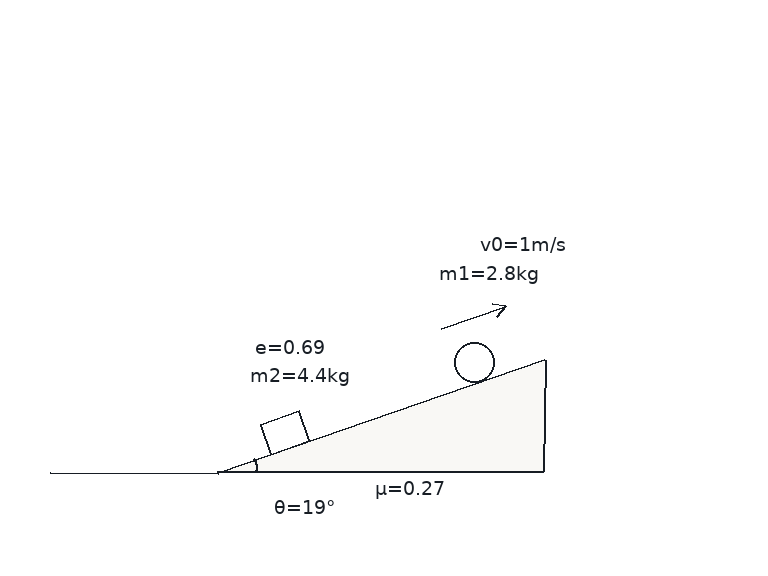ball: (452, 340, 496, 384)
block: (258, 409, 311, 456)
ramp: (215, 358, 545, 474)
